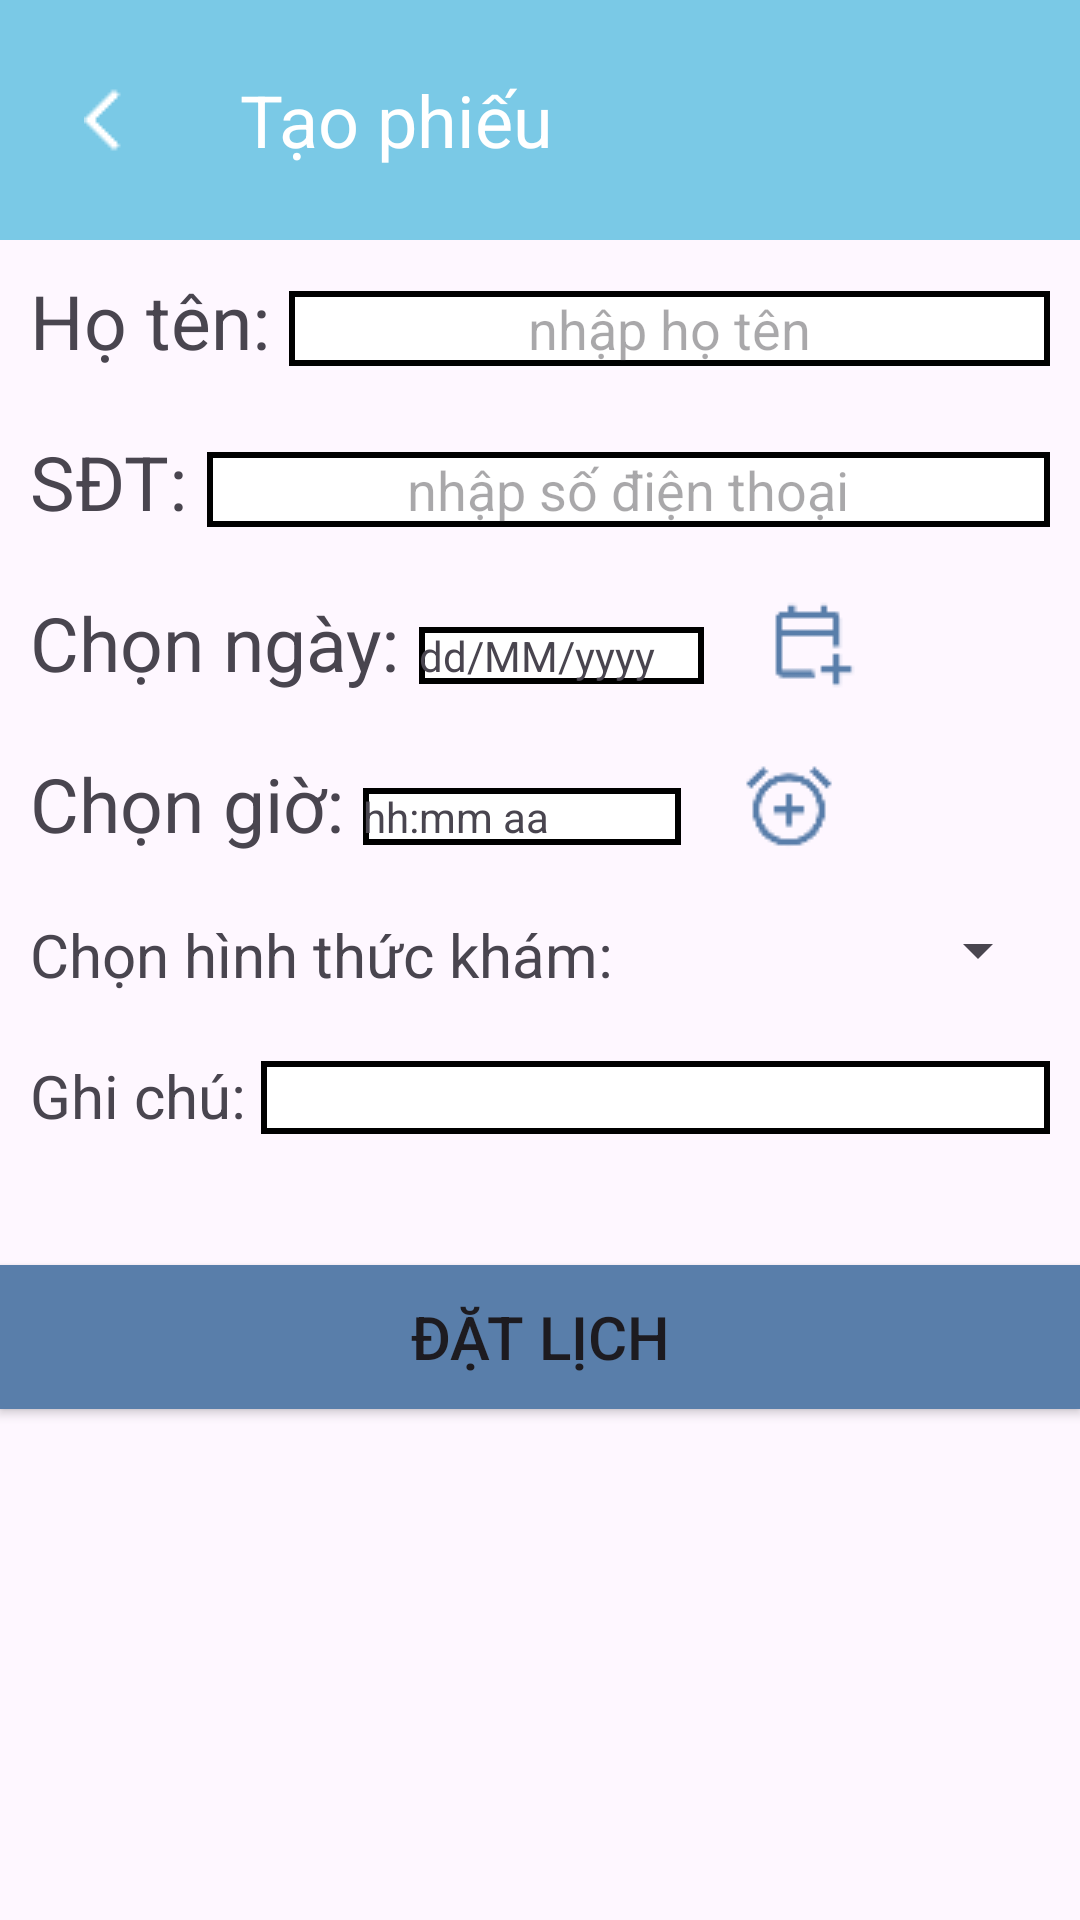

Named icons in this screenshot (1080 × 1920) and their centers, (x=x, y=y):
alarm add: (x=789, y=806)
back: (x=102, y=120)
calendar: (x=813, y=645)
